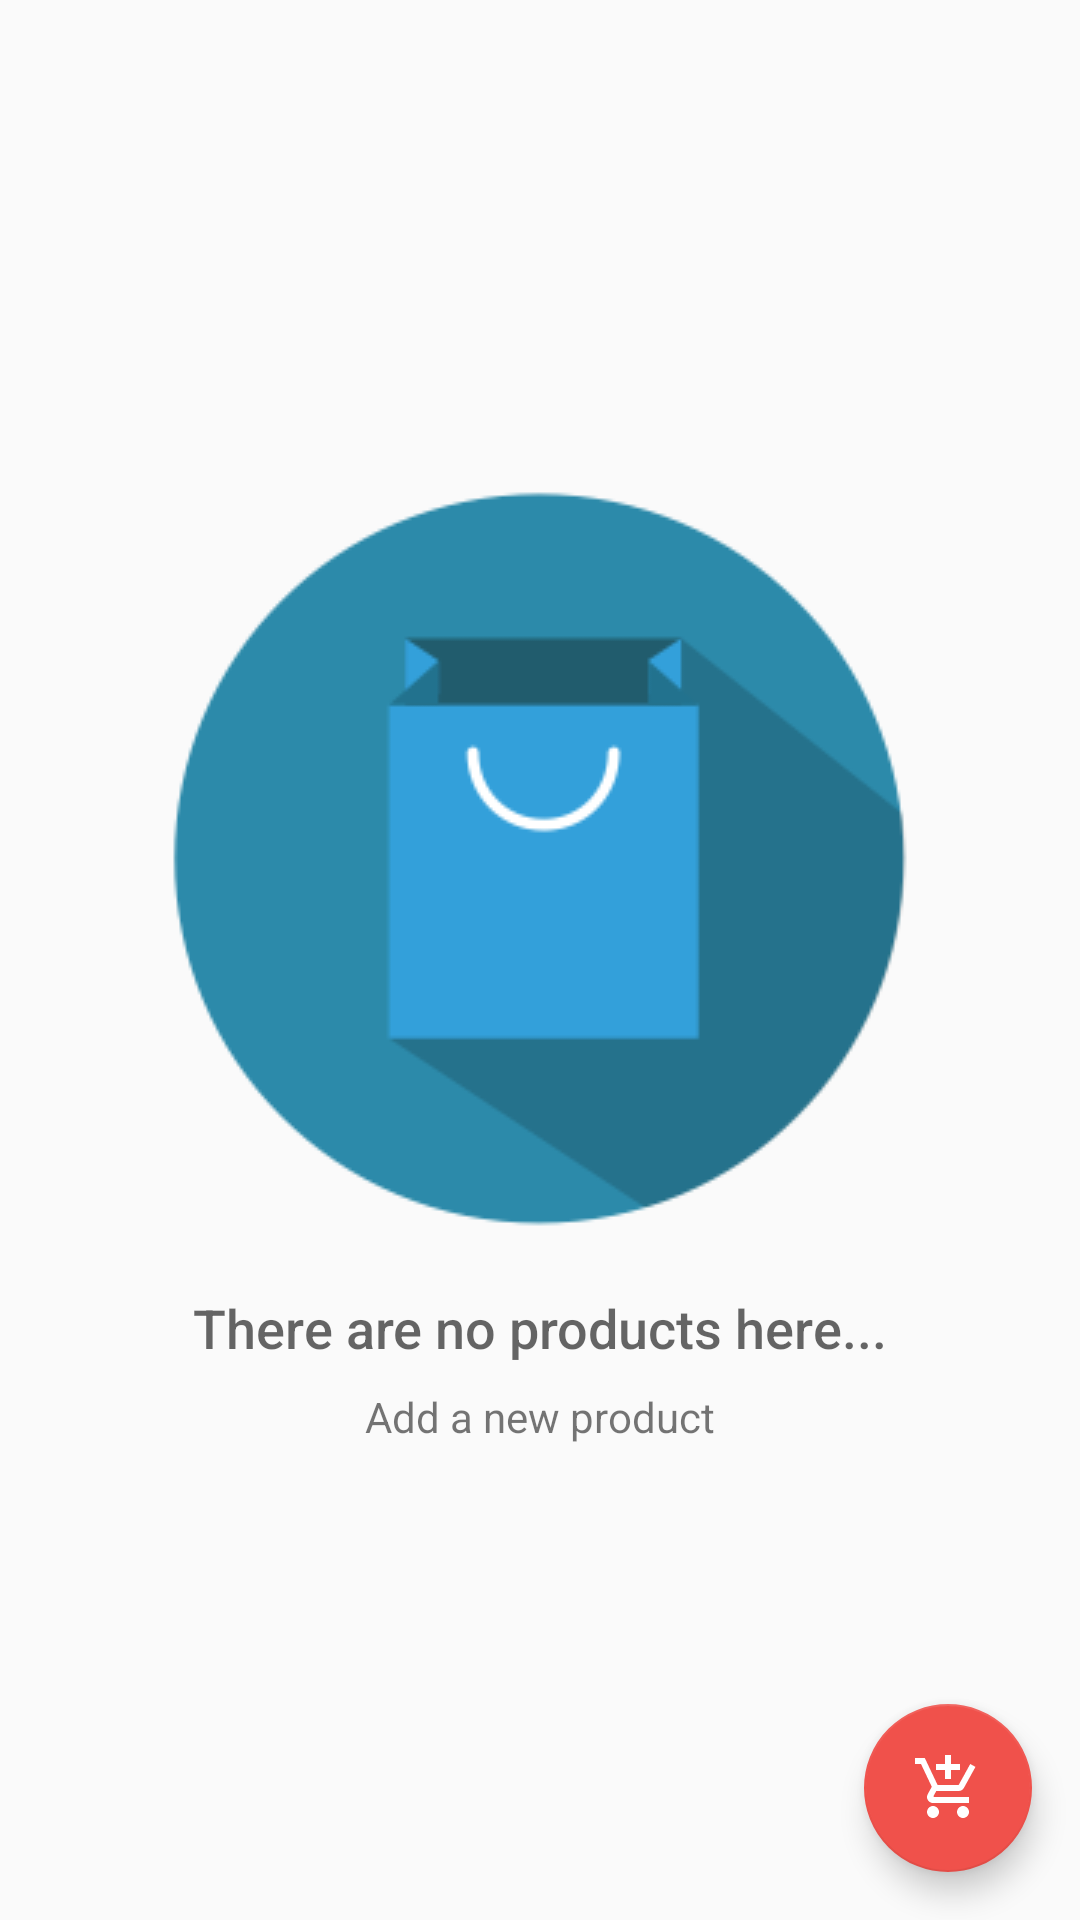

Screen size 1080px x 1920px. Icon name, then its box in pixels as bbox=[x1, y1, x2, y2]:
add product: bbox=[864, 1704, 1032, 1872]
